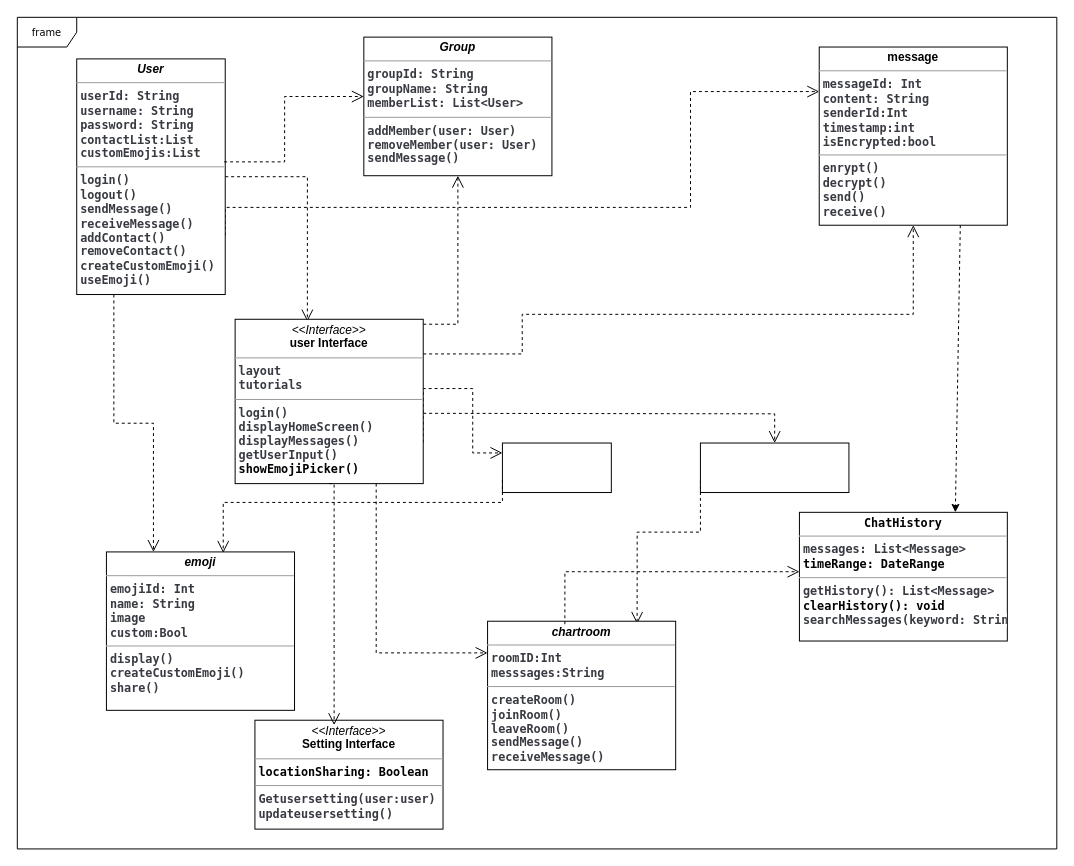
The diagram is 1074 pixels wide and 866 high, and some of its shapes have lost their labels. The centre of each missing label's shape, as x and y in pixels:
"<<Interface>> emoji Interface" belongs at (556,467).
"chartroom Interface" belongs at (774,467).
